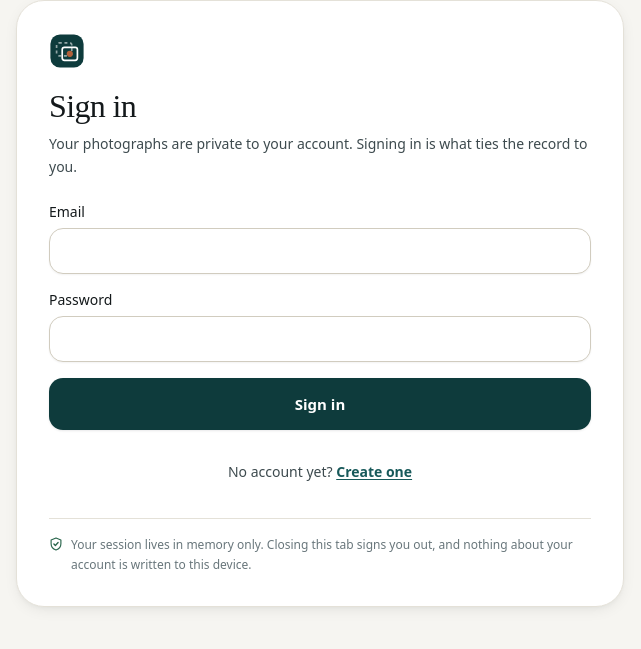
Test: SignIn — registering › states the pool password policy before it is hit
Step 1. Click the button with test id "to-sign-up" → (374, 472), box [336,450,412,494]
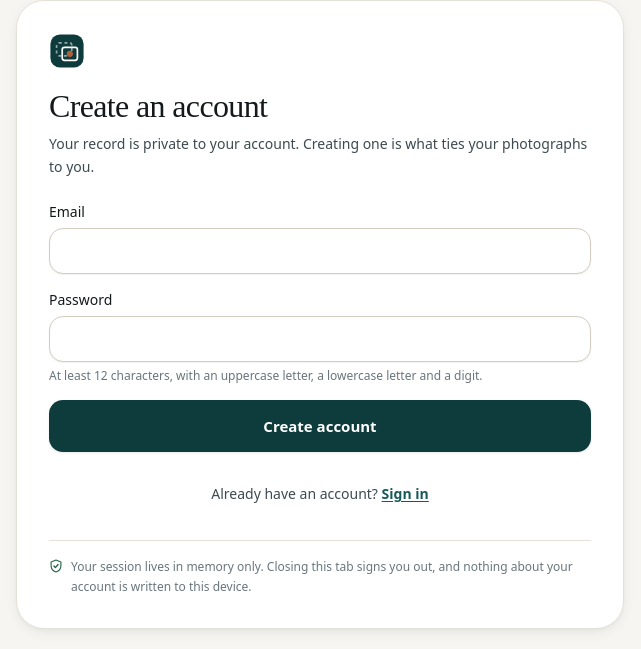
Check: the text "At least 12 characters" is shown, box [49,367,482,384]
